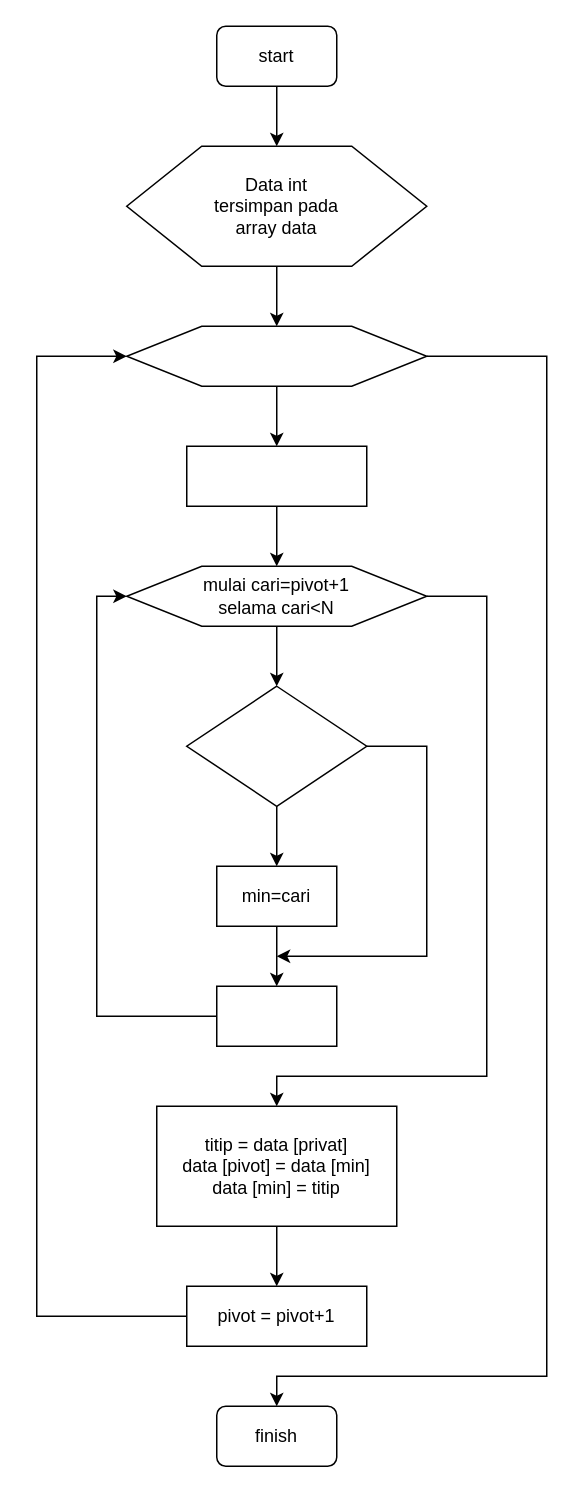
This 585x1493 diagram has some shape labels left out. The shapes that lost their labels are listed below. From the top down, each one's box as (x1, y1, x2, y2) in pixels, then its label:
(125, 325, 427, 386): mulai pivot=0 selma pivot<n-1
(185, 445, 367, 506): min =pivot
(185, 685, 367, 806): data[cari] data[min]
(215, 985, 337, 1046): cari=cari+1
